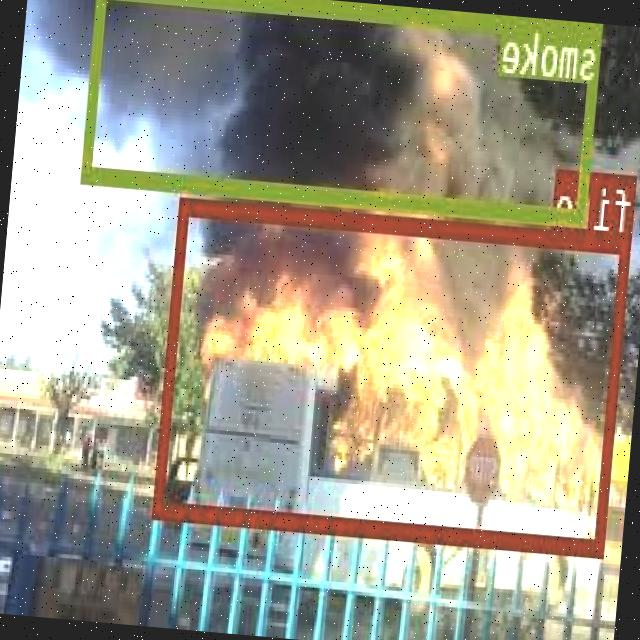fire: (155, 194, 632, 552)
smoke: (83, 0, 603, 220)
